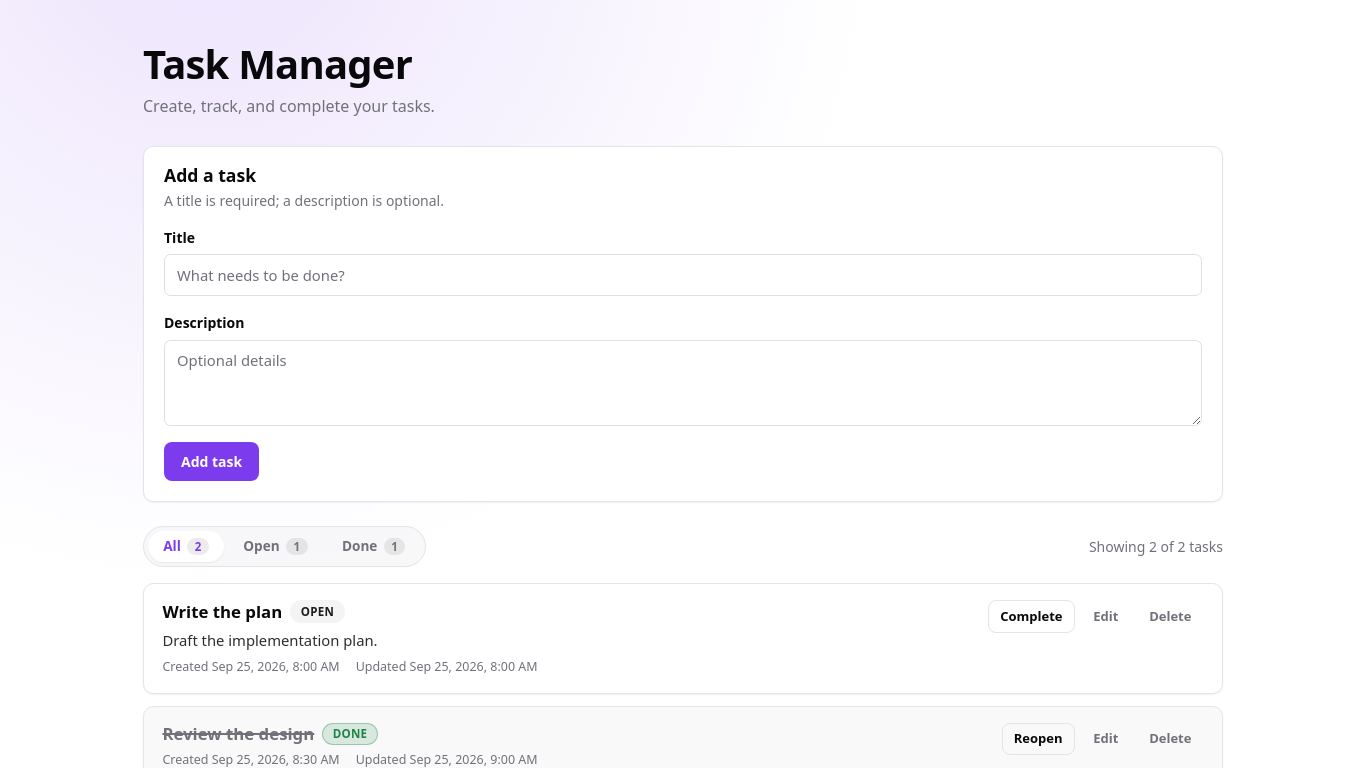
Test case: App › disables the toggle while a write is pending
Expected: the heading "Write the plan" is shown, [162,602,282,622]
Click the button with aria-label "Mark Write the plan as done" at (1031, 617), box [988,600,1075,633]
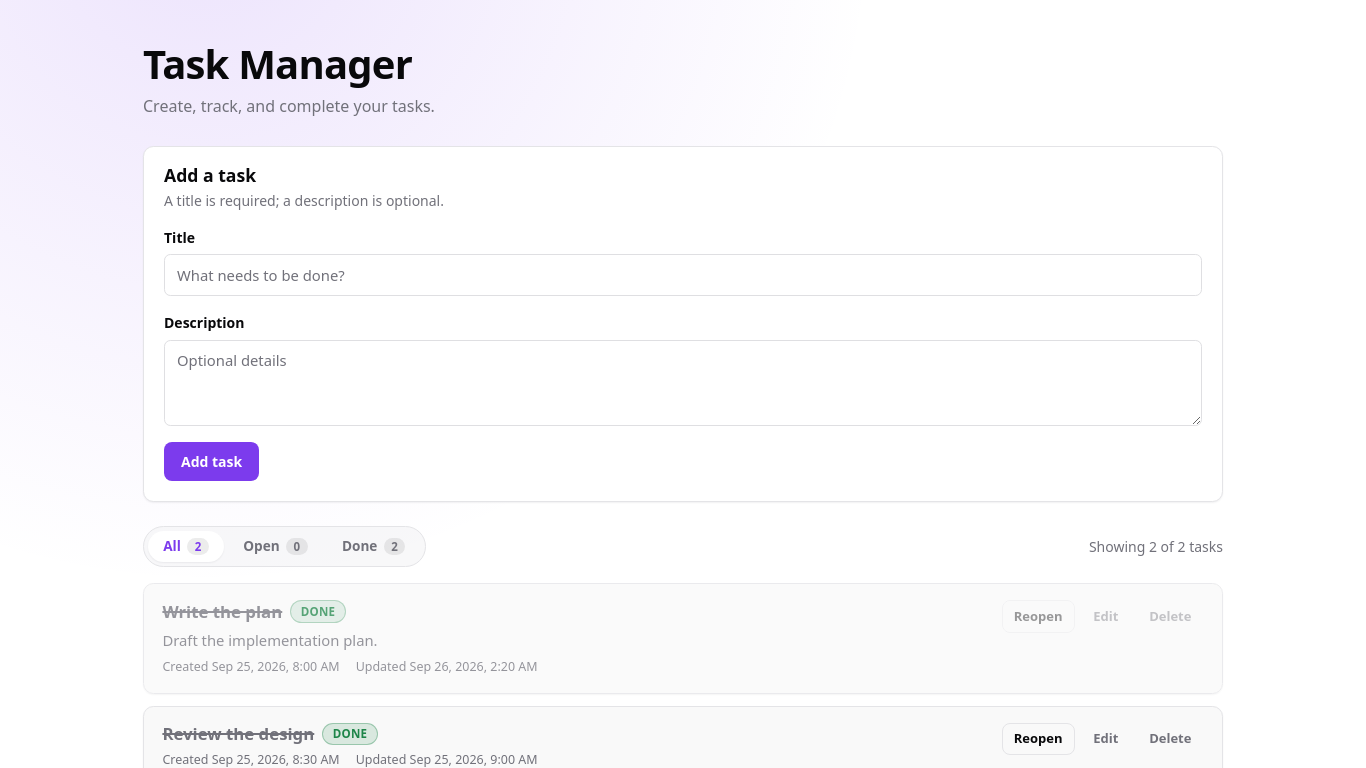
Expected: the button with aria-label "Mark Write the plan as open" is disabled
Expected: the button with aria-label "Edit Write the plan" is disabled, [1081,600,1131,633]
Expected: the button with aria-label "Delete Write the plan" is disabled, [1137,600,1204,633]
A rapid second click must not create a duplicate write.
Click the button with aria-label "Mark Write the plan as open" at (1038, 617), box [1002,600,1075,633]
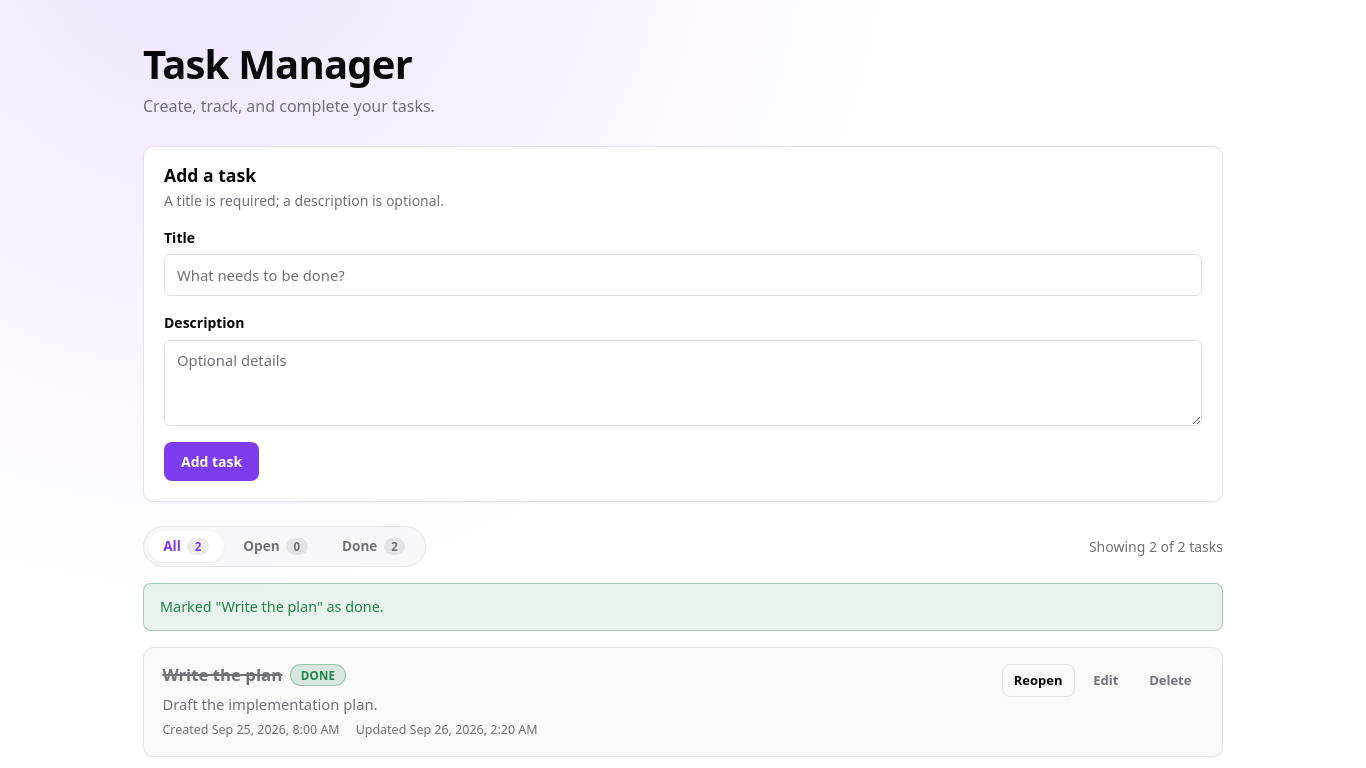
Expected: the button with aria-label "Mark Write the plan as open" is enabled, [1002,664,1075,697]
